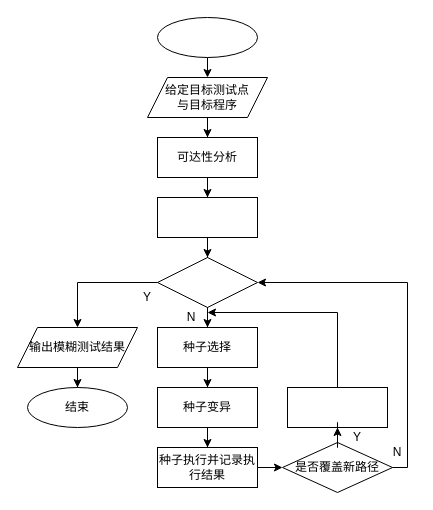
The diagram is 433 pixels wide and 510 high, and some of its shapes have lost their labels. The shapes that lost their labels are listed below. From the top down, each one's centre as x and y in pixels, then its label:
At [207,37]: "开始".
At [207,217]: "代码插桩".
At [207,282]: "是否终止".
At [337,407]: "保存崩溃输入并将其加入种子队列".
